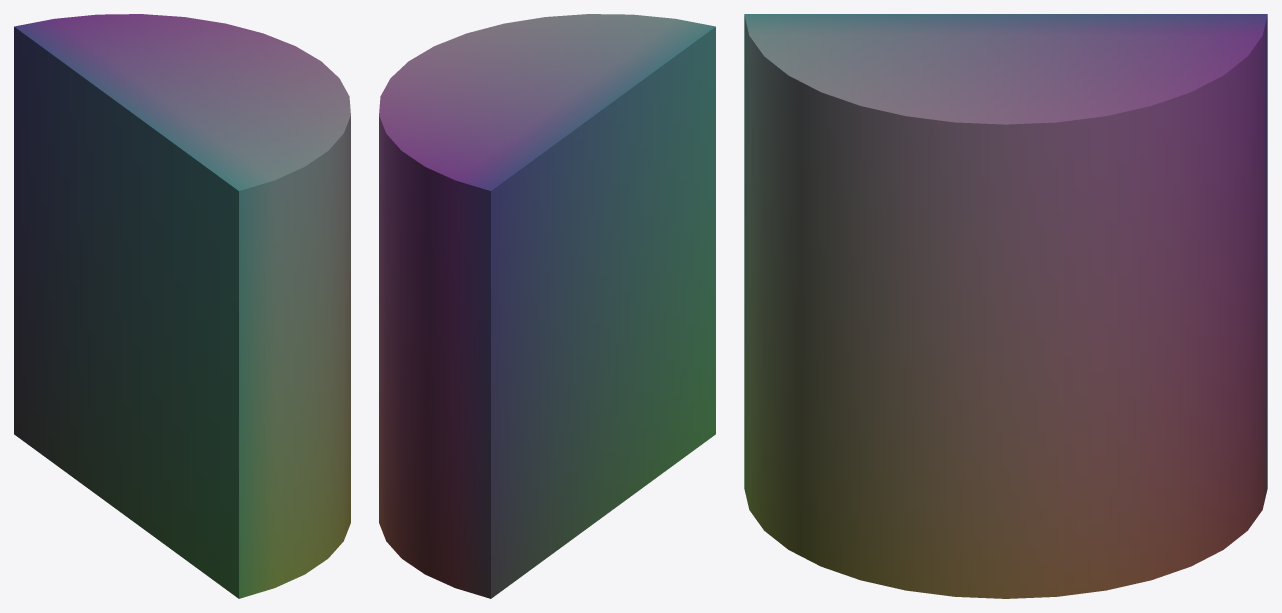
The model's file is SM_ScalableHalfCylinder.gltf.
The picture shows the model from 3 angles, left to right: view 1: azimuth 30°, elevation 25°; view 2: azimuth 150°, elevation 25°; view 3: azimuth 270°, elevation 25°; orthographic projection. The views are drawn at different scales.
Parts seen in each view (by area): view 1: SM_ScalableHalfCylinder; view 2: SM_ScalableHalfCylinder; view 3: SM_ScalableHalfCylinder.
Part boxes in pixels (x1,y1,x2,y2): SM_ScalableHalfCylinder: (14,14,350,598); SM_ScalableHalfCylinder: (379,14,715,598); SM_ScalableHalfCylinder: (744,14,1267,598).
Size of the model in its own units: 0.15 by 0.3 by 0.3.
